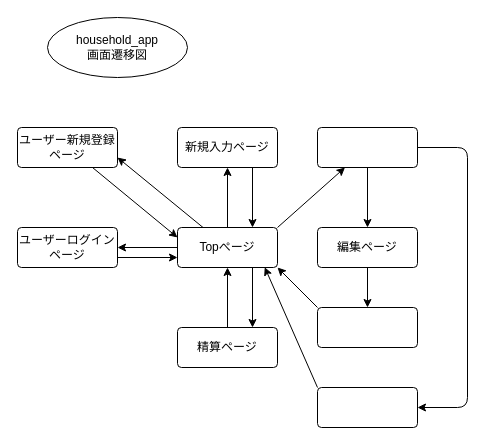
Some shapes in this 493 by 445 pixel diagram are drawn without their labels. The shapes that lost their labels are listed below. From the top down, each one's box as (x1, y1, x2, y2) in pixels, then its label:
(316, 126, 418, 168): 支払い情報 詳細ページ
(316, 306, 418, 348): 支払い情報 編集完了ページ
(316, 386, 418, 428): 支払い情報 削除完了ページ
